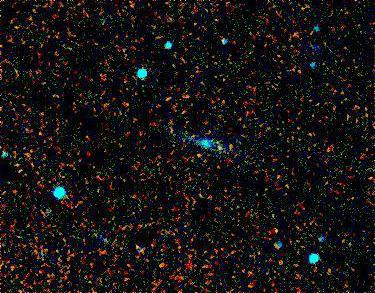star: (181, 144, 211, 174)
